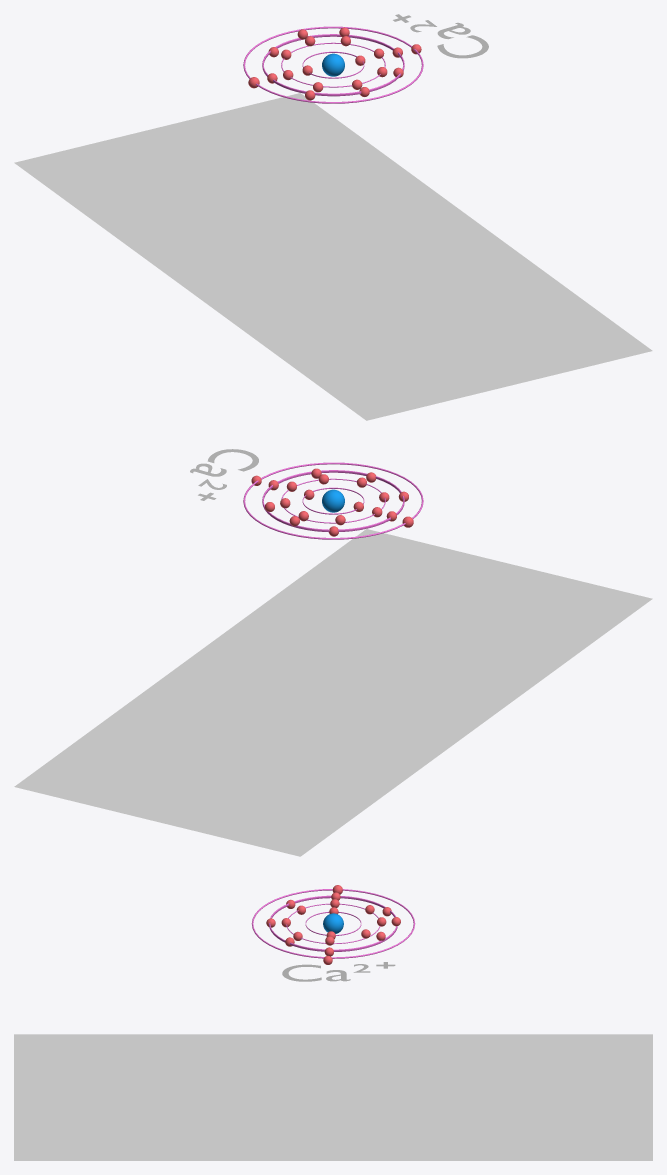
Rendered from calcium2.glb.
3 renders of one model, top to bottom at view 1: azimuth 30°, elevation 25°; view 2: azimuth 150°, elevation 25°; view 3: azimuth 270°, elevation 25°, orthographic. The views are drawn at different scales.
Visible parts, largest first — view 1: ImageTargetPreview, BezierCircle_004, BezierCircle_014, Text_1; view 2: ImageTargetPreview, BezierCircle_004, BezierCircle_014, Text_1; view 3: ImageTargetPreview, BezierCircle_004, BezierCircle_014, Text_1.
Boxes of the visible parts, left/top/right/bottom form: ImageTargetPreview: left=14, top=93, right=652, bottom=420; BezierCircle_004: left=243, top=26, right=423, bottom=103; BezierCircle_014: left=262, top=34, right=404, bottom=96; Text_1: left=393, top=14, right=488, bottom=58; ImageTargetPreview: left=14, top=529, right=652, bottom=856; BezierCircle_004: left=243, top=462, right=423, bottom=539; BezierCircle_014: left=262, top=470, right=404, bottom=532; Text_1: left=190, top=449, right=258, bottom=500; ImageTargetPreview: left=14, top=1034, right=652, bottom=1160; BezierCircle_004: left=251, top=889, right=415, bottom=958; BezierCircle_014: left=269, top=895, right=397, bottom=951; Text_1: left=282, top=962, right=395, bottom=981.
Bounding box in the file's own units: 469 × 316 × 1000.
